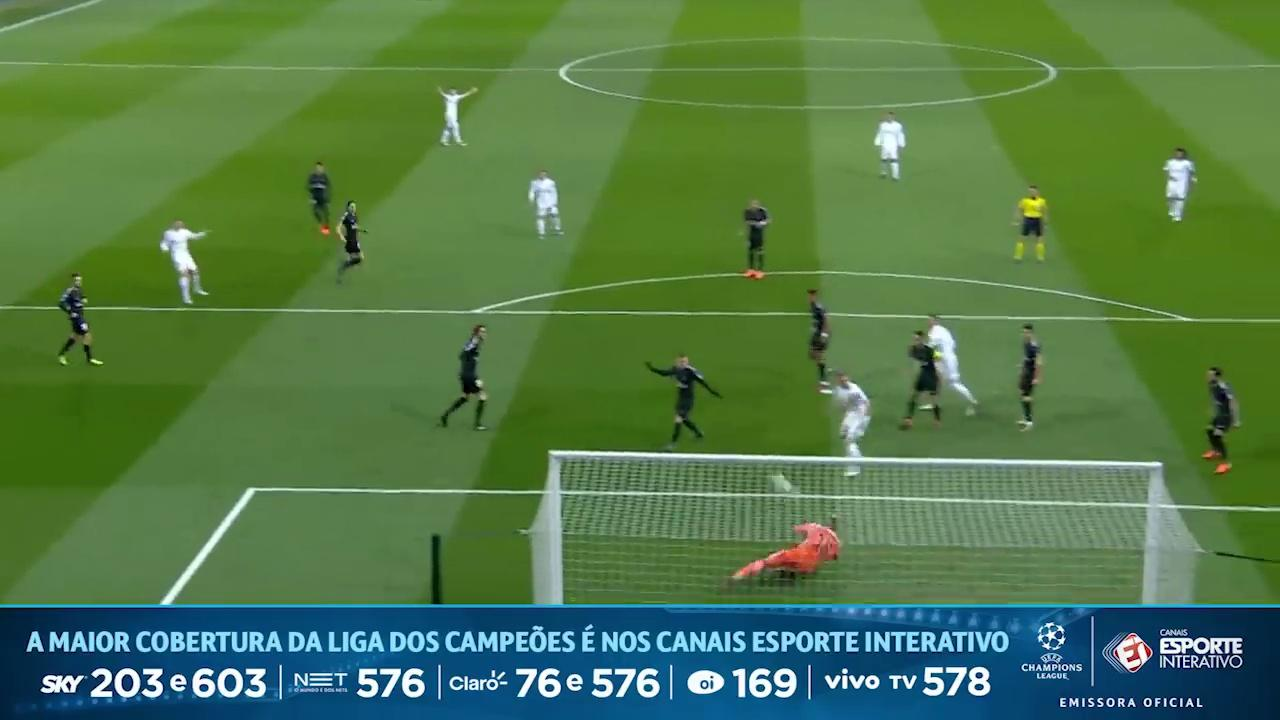football: (759, 472, 805, 505)
player: (645, 354, 720, 450), (729, 522, 840, 584), (439, 324, 486, 430), (928, 315, 977, 414), (58, 273, 102, 365), (160, 220, 208, 304), (834, 371, 871, 476), (901, 331, 941, 428), (1203, 367, 1239, 473), (1018, 324, 1042, 430), (807, 288, 830, 393), (1164, 147, 1196, 221), (437, 87, 477, 145), (337, 201, 365, 283), (528, 171, 562, 238), (743, 200, 770, 278), (874, 113, 905, 180), (307, 161, 330, 234)
referee: (1014, 186, 1047, 261)
